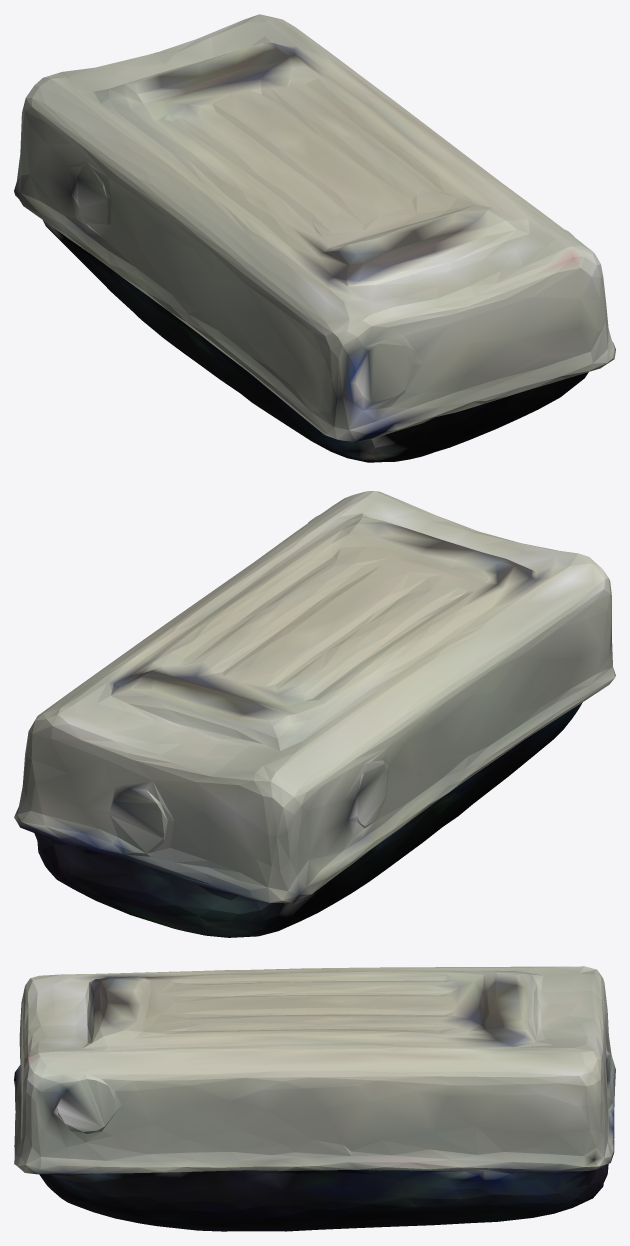
Rendered from scan.obj.
The picture shows the model from 3 angles, top to bottom: view 1: azimuth 30°, elevation 25°; view 2: azimuth 150°, elevation 25°; view 3: azimuth 270°, elevation 25°; orthographic projection. The views are drawn at different scales.
Visible parts, largest first — view 1: scan.ply; view 2: scan.ply; view 3: scan.ply.
Boxes of the visible parts, x1,y1,x2,y2 form: scan.ply: [14, 14, 615, 462]; scan.ply: [14, 491, 615, 937]; scan.ply: [14, 966, 615, 1231].
Bounding box in the file's own units: 0.0554 × 0.0416 × 0.1125.
